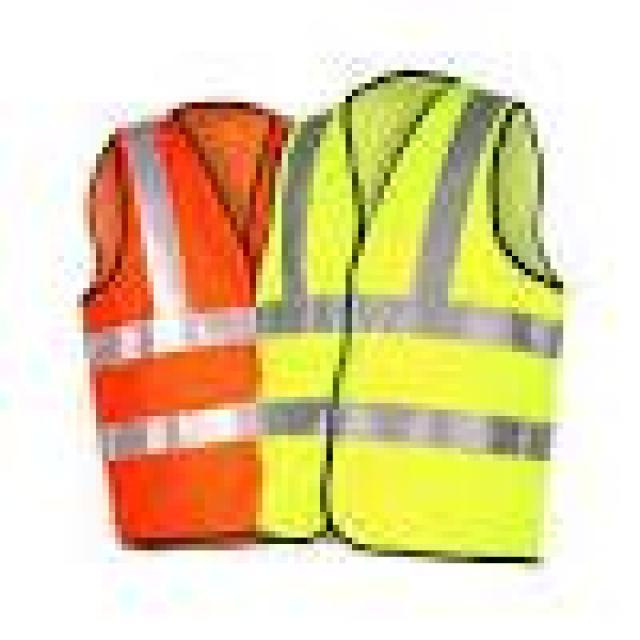Reflective-Jacket: (237, 39, 627, 582)
